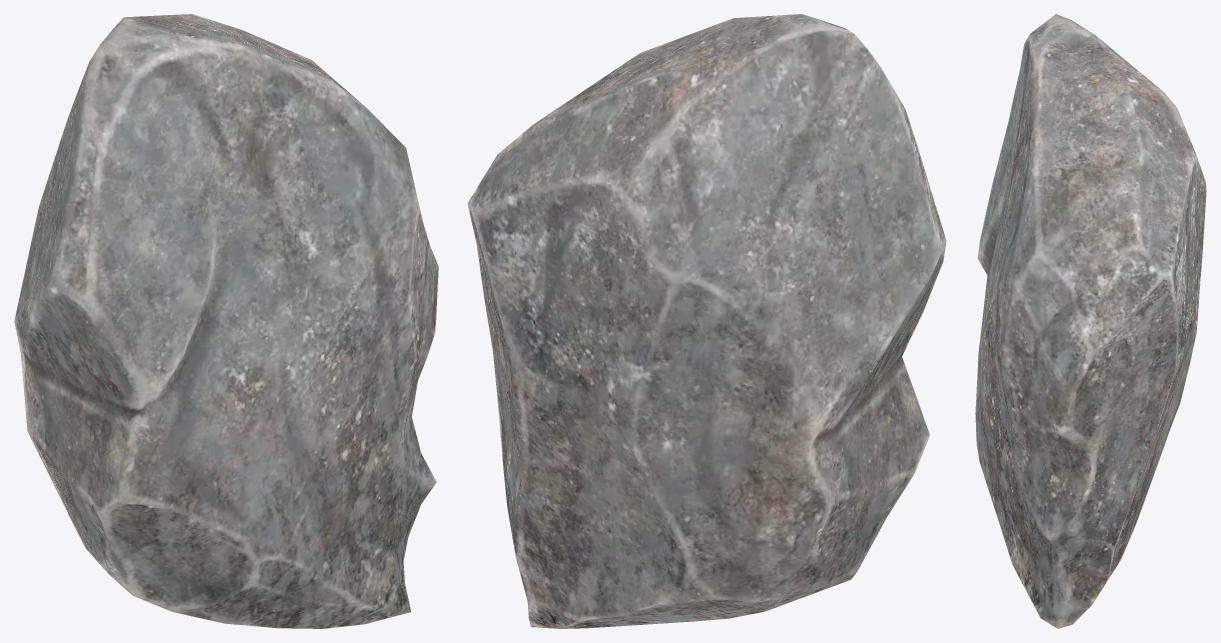
3 views of the same model, side by side, from view 1: azimuth 30°, elevation 25°; view 2: azimuth 150°, elevation 25°; view 3: azimuth 270°, elevation 25° (orthographic). The views are drawn at different scales.
Visible parts, largest first — view 1: SM_Rune_Essence_01v1_LOD0; view 2: SM_Rune_Essence_01v1_LOD0; view 3: SM_Rune_Essence_01v1_LOD0.
Part boxes in pixels (left/top/right/bottom): SM_Rune_Essence_01v1_LOD0: left=14, top=14, right=438, bottom=628; SM_Rune_Essence_01v1_LOD0: left=467, top=14, right=946, bottom=628; SM_Rune_Essence_01v1_LOD0: left=975, top=14, right=1206, bottom=628.
Bounding box in the file's own units: 0.9823 × 1.47 × 0.6134.
Materials: 1 (1 with a texture image).
